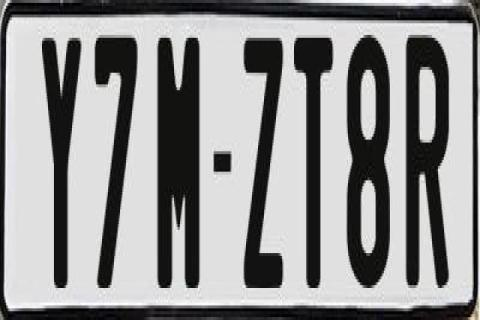0: (344, 29, 392, 285), (92, 29, 138, 288)
M: (158, 38, 200, 291)
R: (406, 35, 448, 299)
T: (294, 35, 334, 299)
Y: (40, 35, 82, 285)
Z: (244, 32, 290, 291)
